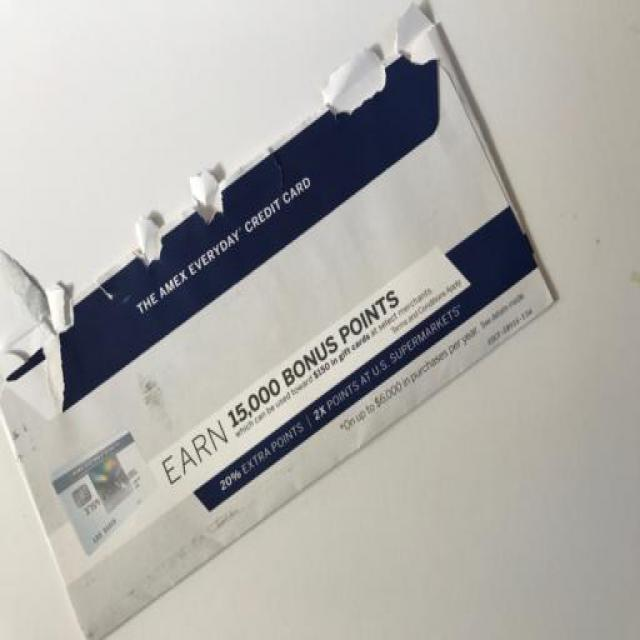paper: (4, 2, 577, 640)
